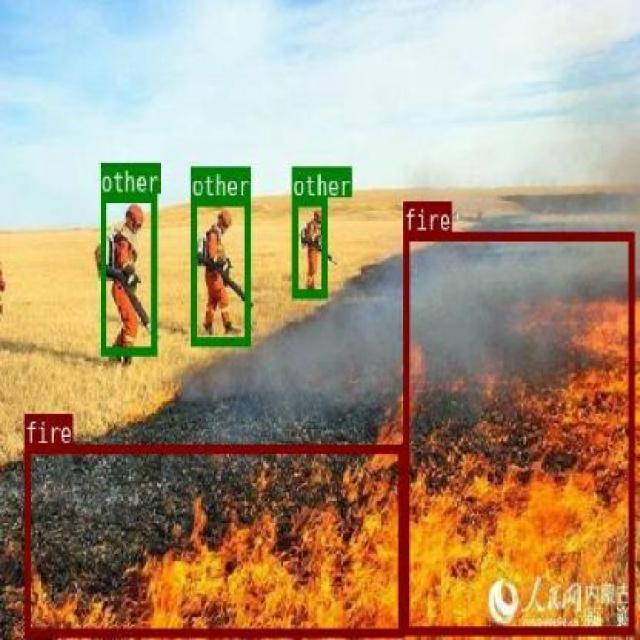Fire: (403, 231, 634, 634), (23, 442, 403, 636)
